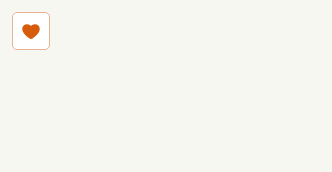
Scenario: FavoriteButton › lê o estado salvo e alterna sem seguir o link do cartão
Step 1. Click the button named "Remover dos favoritos" → click(31, 31), box [12,12,50,50]
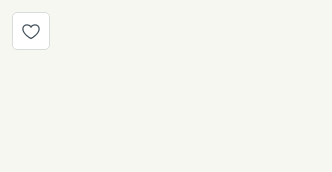
Expected: the button named "Adicionar aos favoritos" is not pressed, [12,12,50,50]
